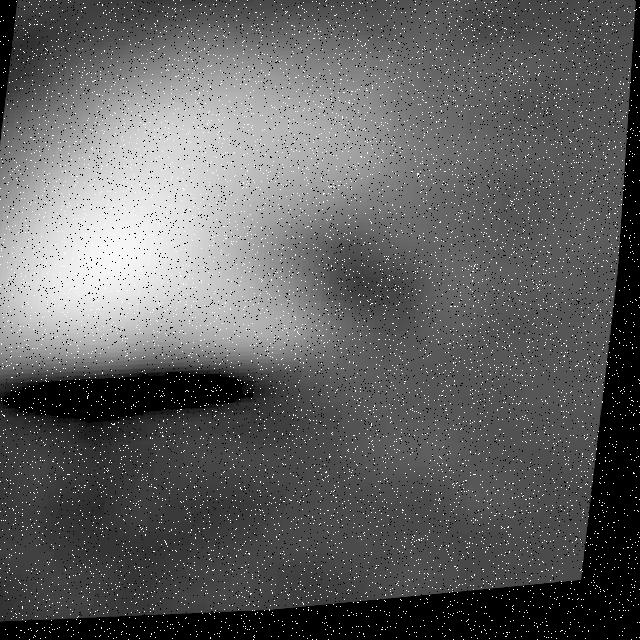person: (1, 1, 464, 408)
